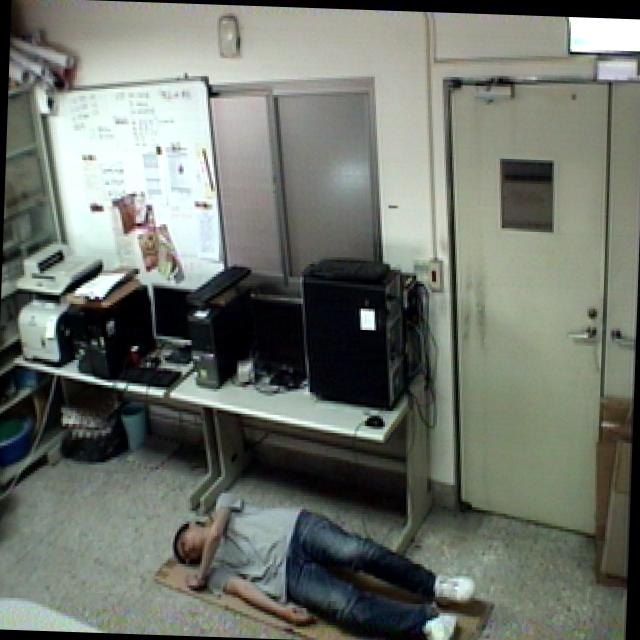lie: (161, 476, 483, 640)
